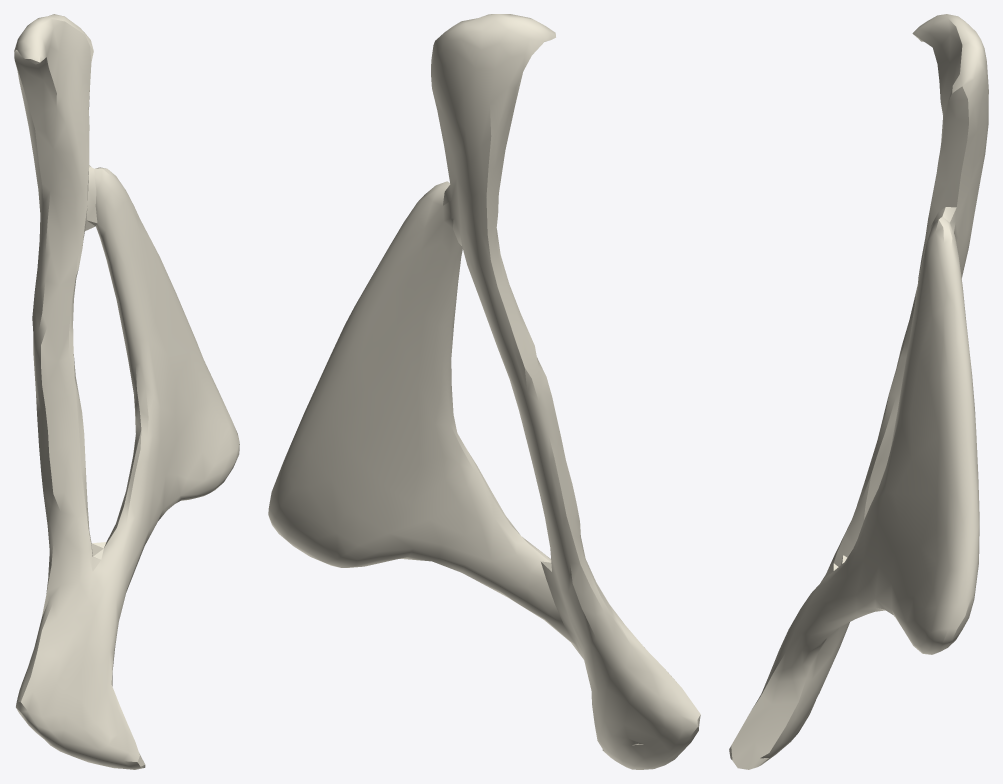
The model's file is fma21483_mm1642m.glb.
3 renders of one model, left to right at view 1: azimuth 30°, elevation 25°; view 2: azimuth 150°, elevation 25°; view 3: azimuth 270°, elevation 25°, orthographic. The views are drawn at different scales.
Visible parts, largest first — view 1: FMA21483_MM1642M; view 2: FMA21483_MM1642M; view 3: FMA21483_MM1642M.
Part boxes in pixels (x1=…): FMA21483_MM1642M: x1=14, y1=14, x2=239, y2=769; FMA21483_MM1642M: x1=268, y1=14, x2=700, y2=769; FMA21483_MM1642M: x1=729, y1=14, x2=988, y2=769.
Bounding box in the file's own units: 0.0667 × 0.1508 × 0.0474.
